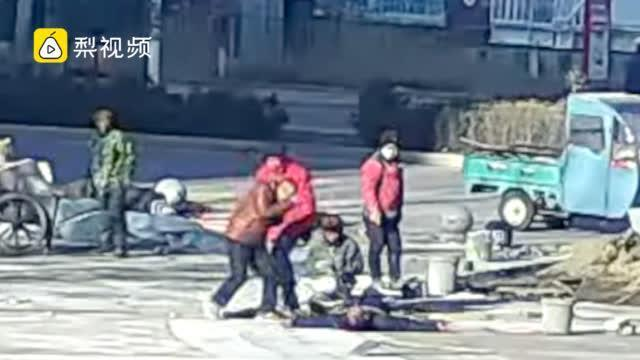Fall-Detected: (274, 274, 455, 337)
